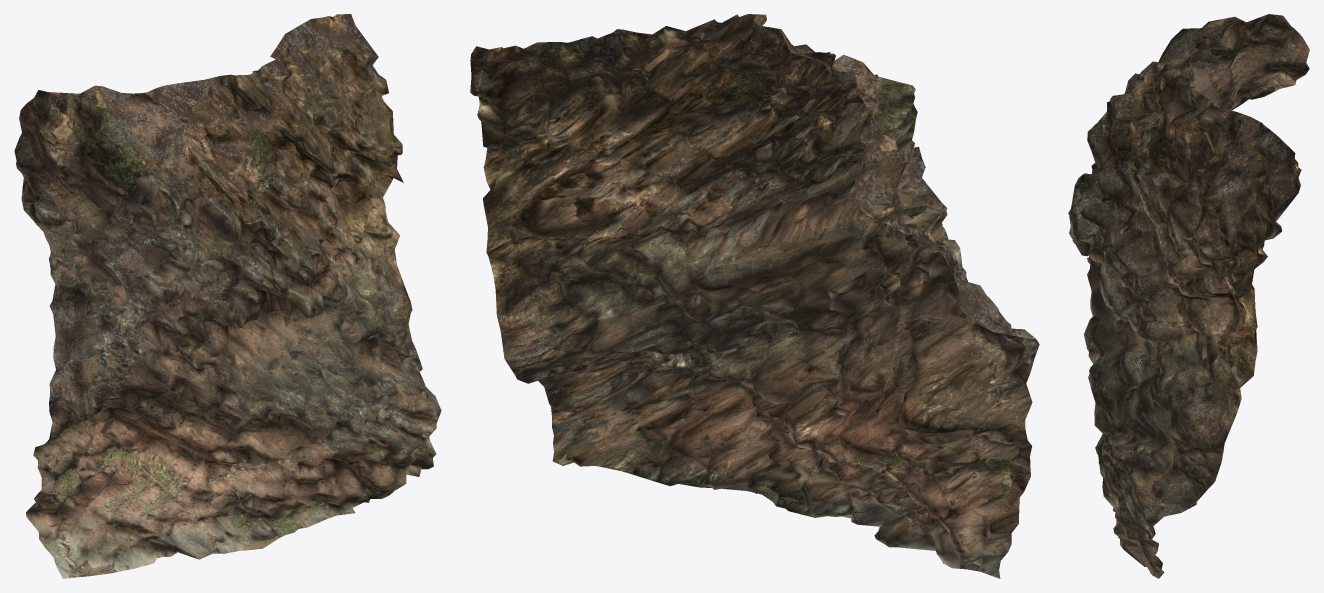
The model's file is mountainside.glb.
The picture shows the model from 3 angles, left to right: view 1: azimuth 30°, elevation 25°; view 2: azimuth 150°, elevation 25°; view 3: azimuth 270°, elevation 25°; orthographic projection. The views are drawn at different scales.
Size of the model in its own units: 10.21 by 10.52 by 5.25.
Materials: 1 (1 with a texture image).
